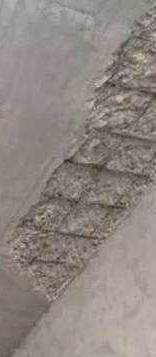Exposed reinforcement: (29, 93, 156, 266), (89, 152, 156, 237), (63, 158, 150, 179), (24, 222, 107, 242), (42, 193, 127, 211), (105, 80, 156, 95), (111, 131, 156, 144), (19, 254, 68, 265), (134, 34, 152, 43)
Spalling: (5, 3, 156, 305)
